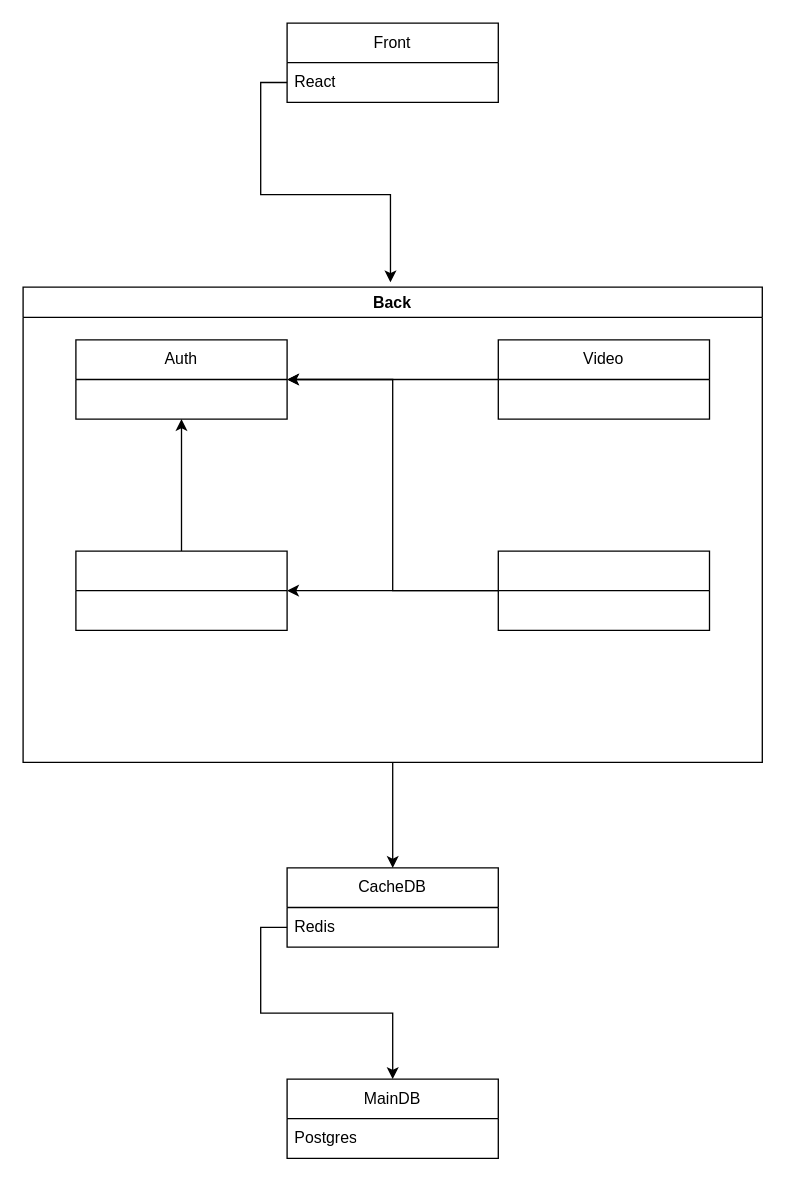
This 785x1181 diagram has some shape labels left out. The shapes that lost their labels are listed below. From the top down, each one's centre as x and y in pixels, then its label:
(x=181, y=590): UserInfo
(x=603, y=590): Chat
